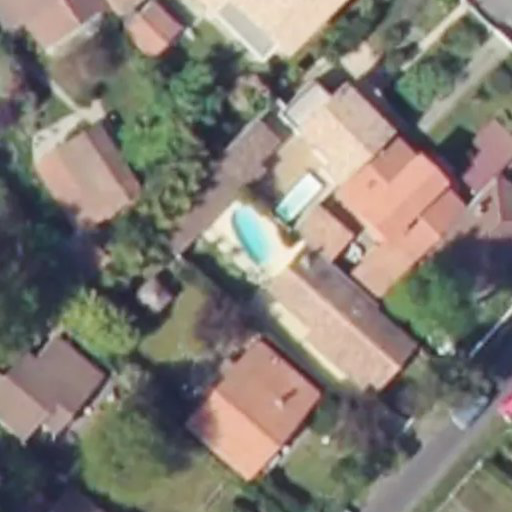pool: (227, 214, 279, 264)
